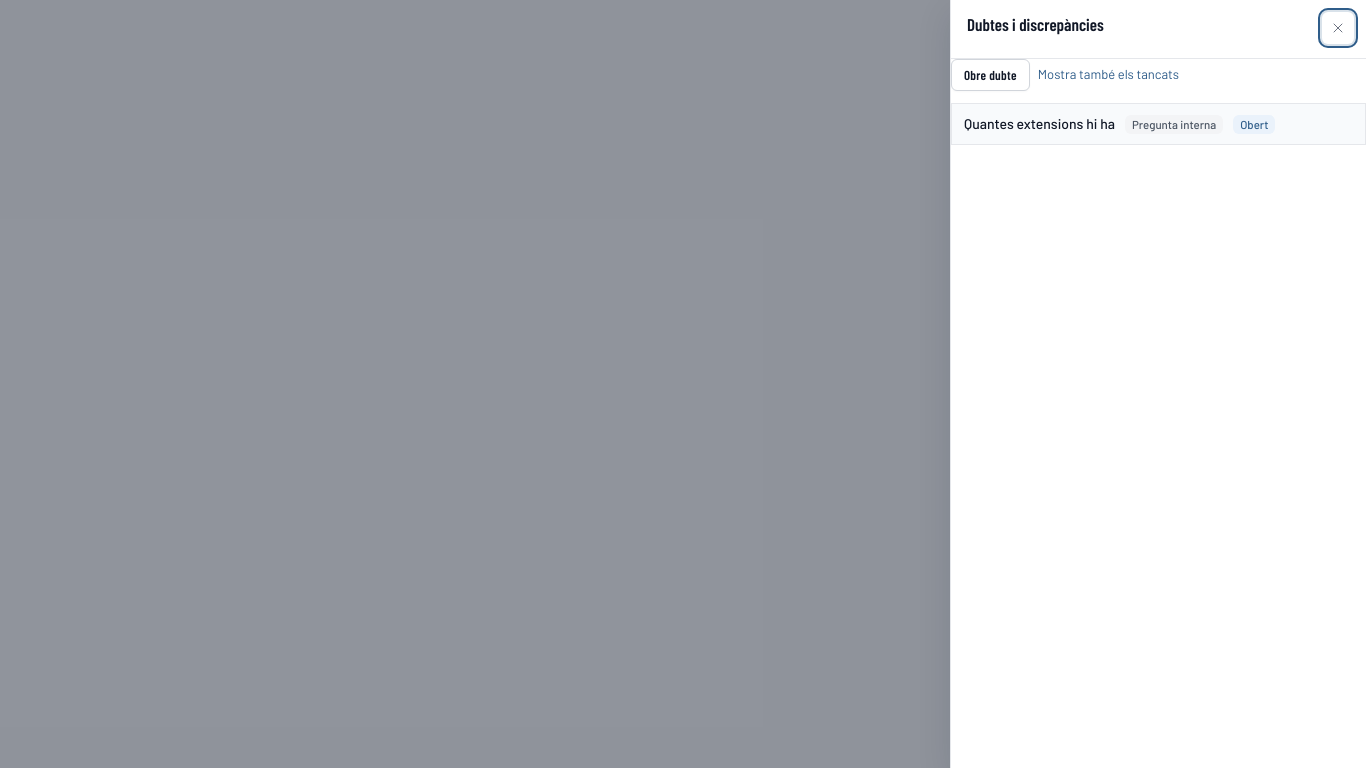
Test: resoldre no deixa continuar sense escriure la resposta
Click the button "Quantes extensions hi ha": (1040, 124) [964, 114, 1115, 134]
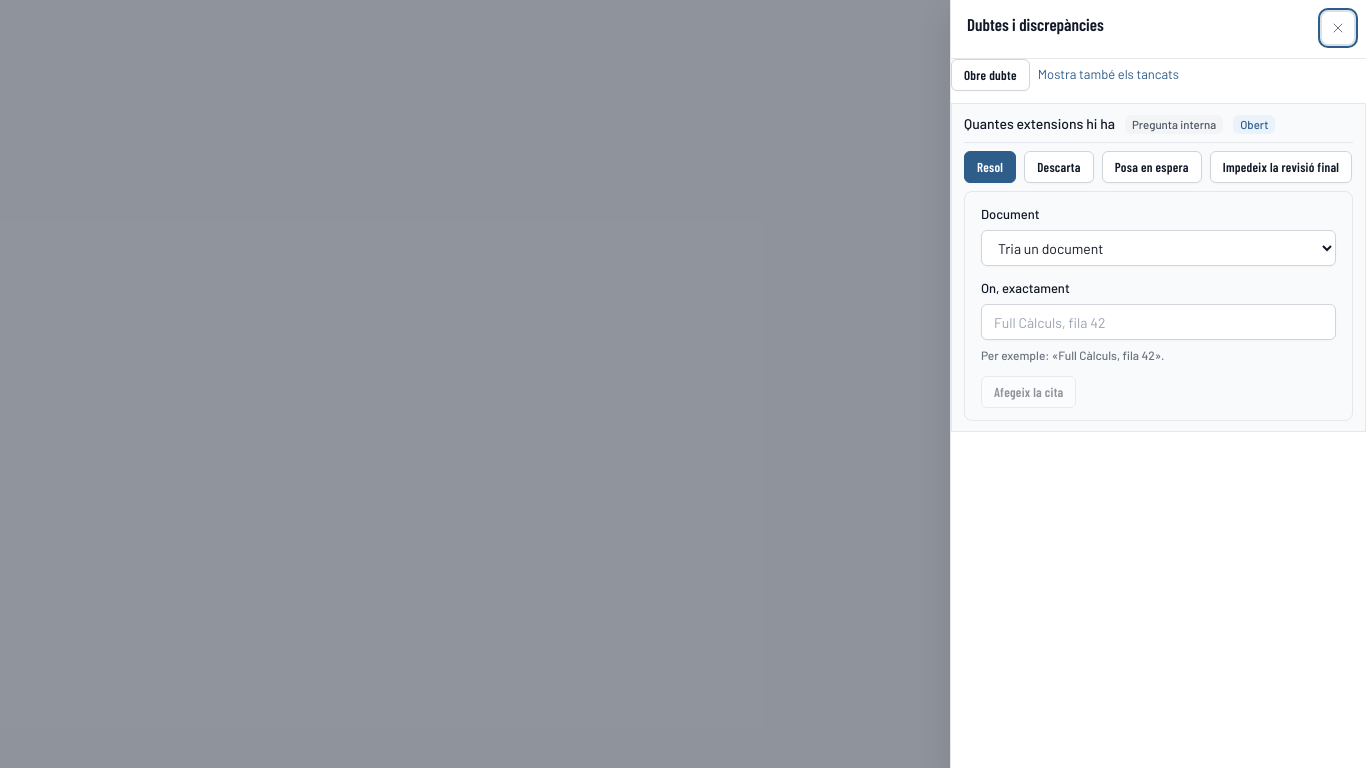
Click the button "Resol": (990, 167) [964, 151, 1016, 183]
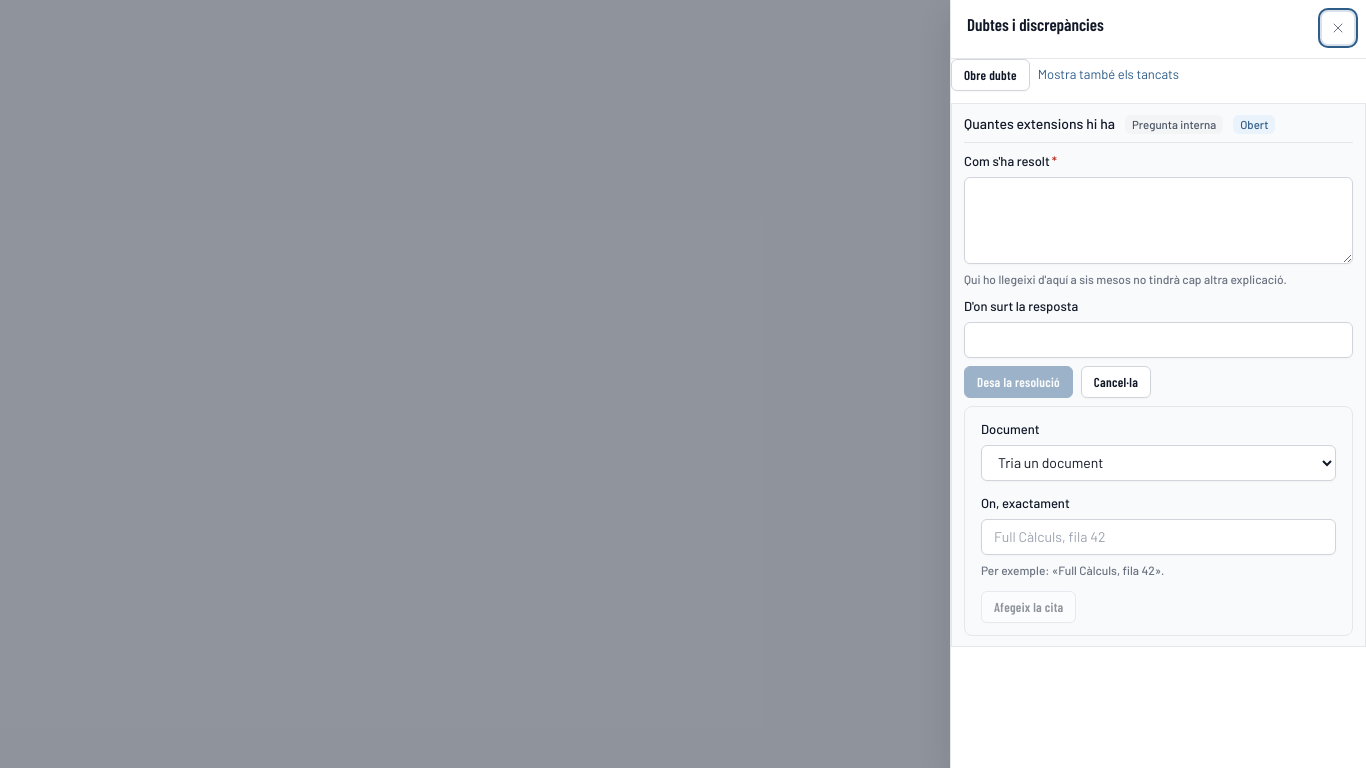
Now the button "Desa la resolució" is disabled, box [964, 366, 1073, 398]
In the text box: (1158, 220) [964, 177, 1353, 264], type "Utilitzarem 181 segons l'inventari complet"
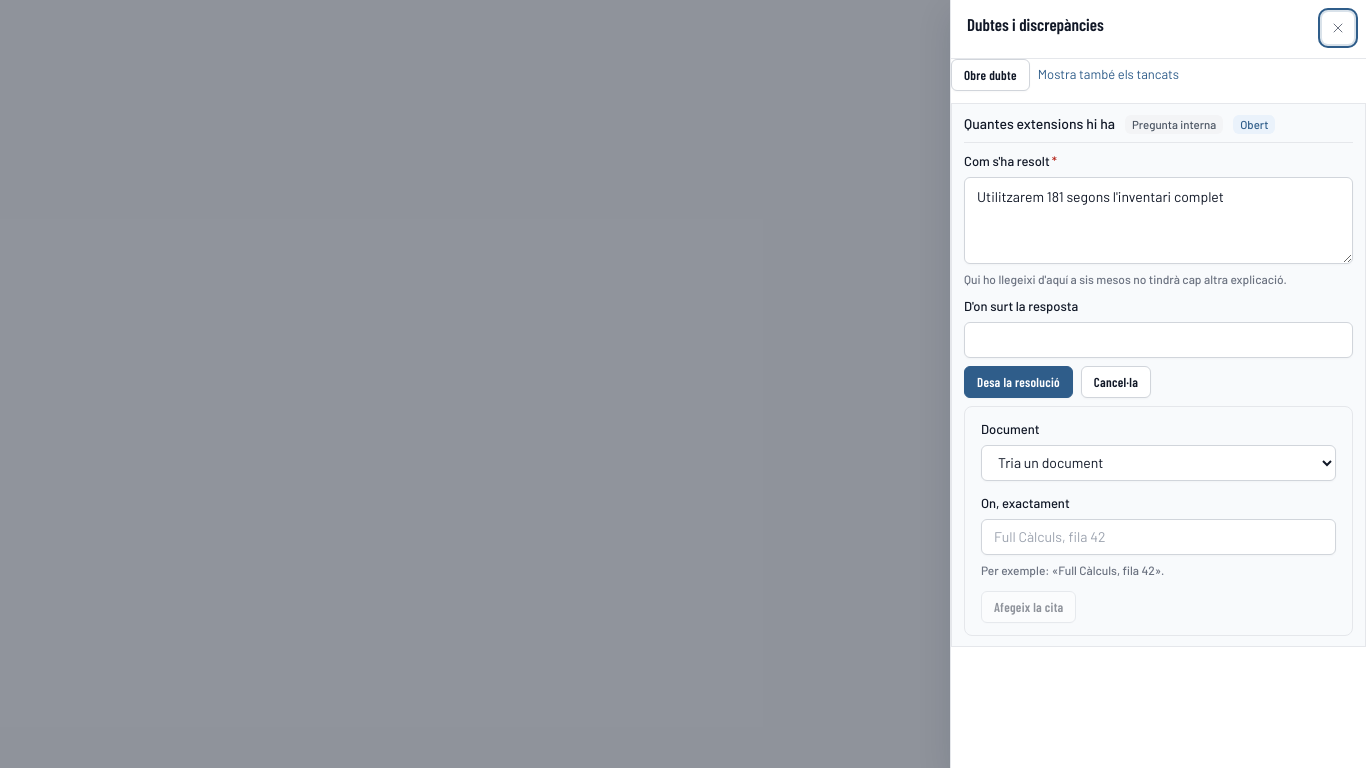
Now the button "Desa la resolució" is enabled, box [964, 366, 1073, 398]
